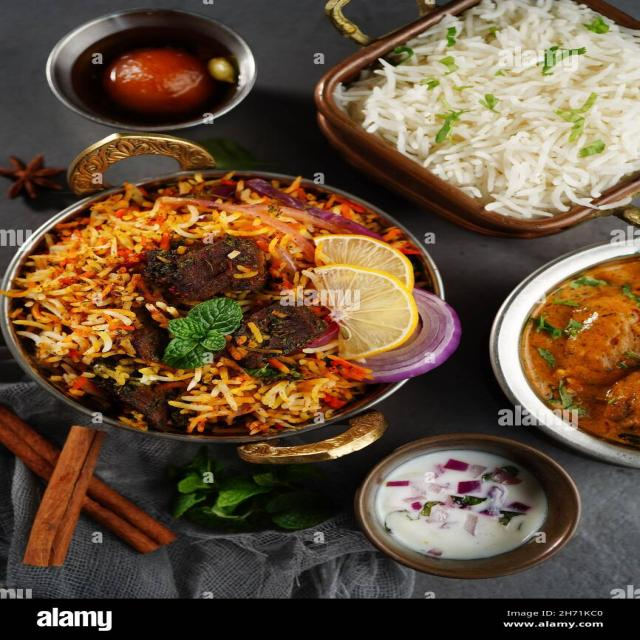non veg meals: (0, 0, 640, 601)
